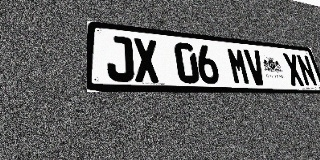0: (173, 42, 200, 84)
6: (194, 44, 221, 84)
J: (106, 35, 135, 82)
M: (226, 47, 251, 85)
N: (295, 54, 318, 87)
V: (243, 49, 268, 85)
X: (133, 38, 160, 83), (282, 53, 305, 86)
